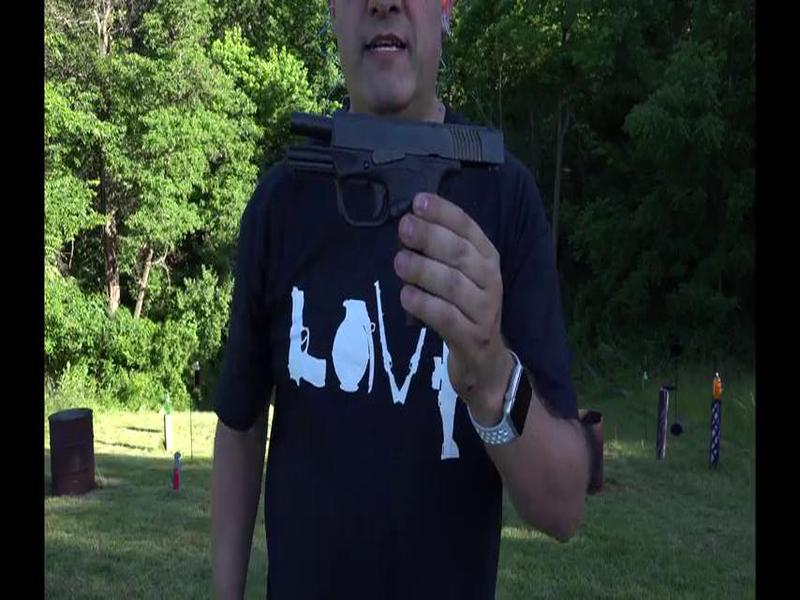Pistola: (273, 95, 524, 329)
